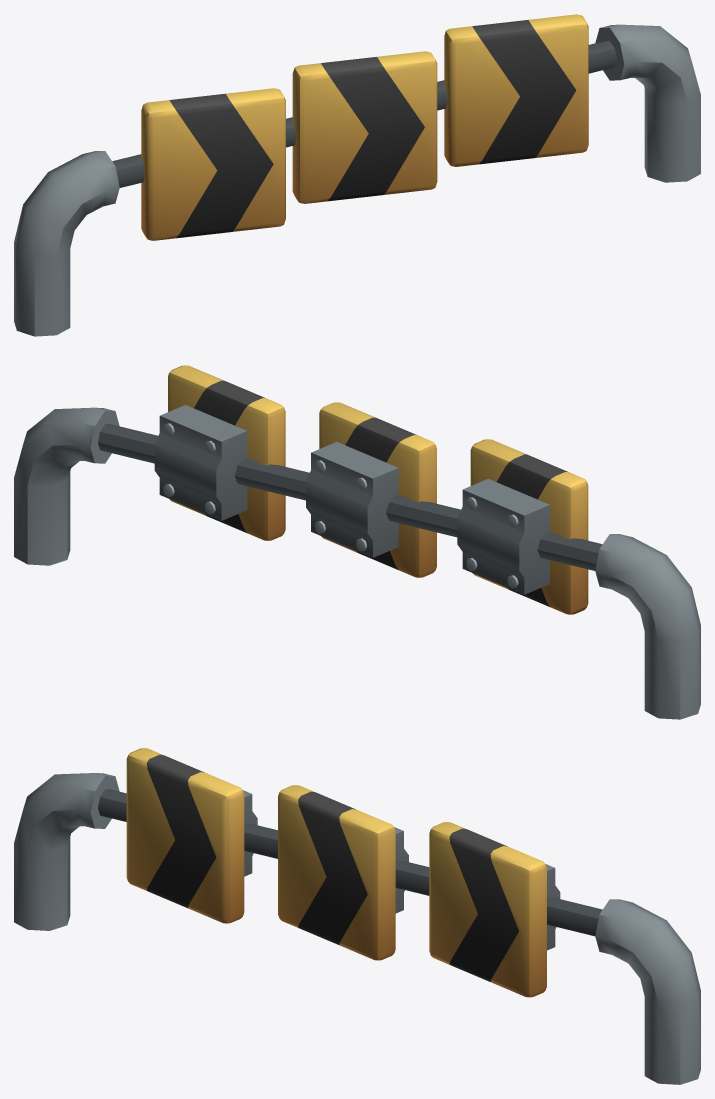
File: signage_arrows_right.glb
3 views of the same model, one above another, from view 1: azimuth 30°, elevation 25°; view 2: azimuth 150°, elevation 25°; view 3: azimuth 330°, elevation 25° (orthographic).
Visible parts, largest first — view 1: signage_arrows_right; view 2: signage_arrows_right; view 3: signage_arrows_right.
Part boxes in pixels (bbox=[...]): signage_arrows_right: bbox=[14, 14, 700, 336]; signage_arrows_right: bbox=[14, 365, 700, 719]; signage_arrows_right: bbox=[14, 748, 700, 1084].
Size of the model in its own units: 5.4 by 1.5 by 0.6771.
1 material, 1 textured.
